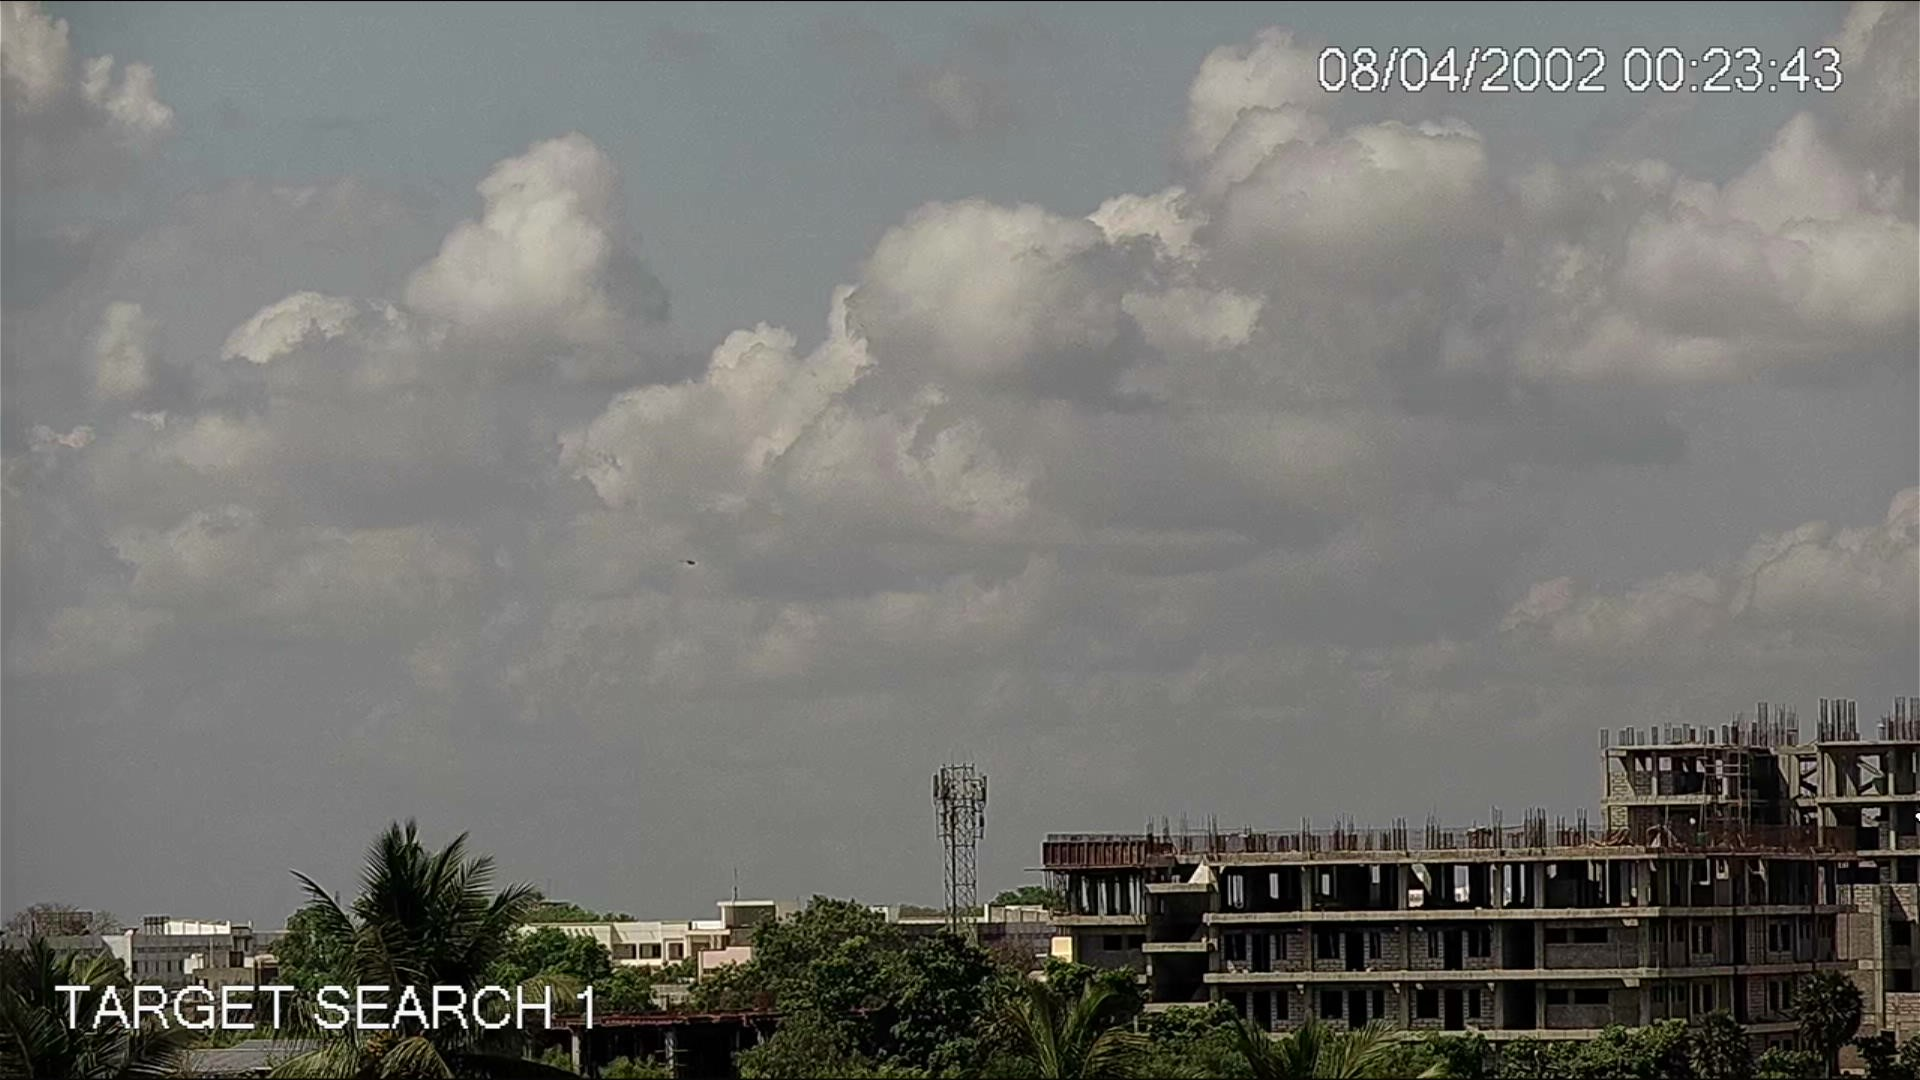SU_30: (678, 556, 696, 568)
